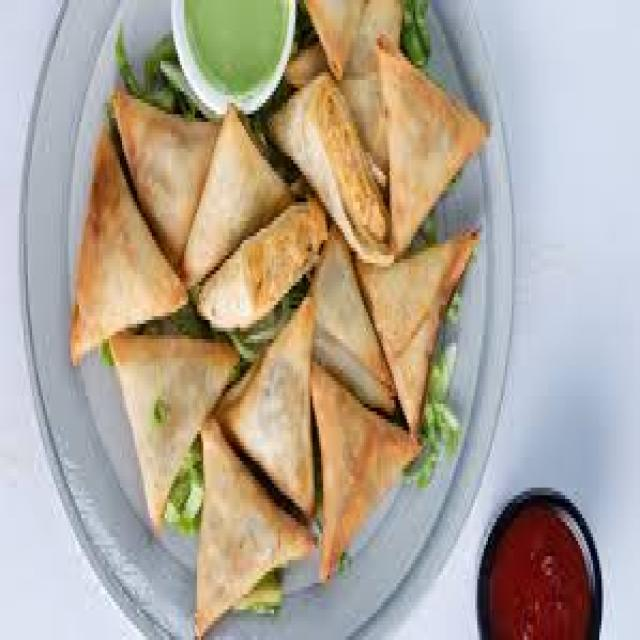SAMOSA: (73, 130, 186, 362), (195, 419, 313, 632), (357, 232, 477, 430), (111, 335, 238, 522), (313, 362, 417, 575), (379, 42, 486, 248), (272, 72, 387, 251), (218, 301, 313, 507), (184, 110, 289, 282), (116, 91, 216, 263)
